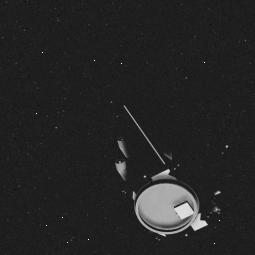proba_3_csc: (88, 85, 229, 244)
